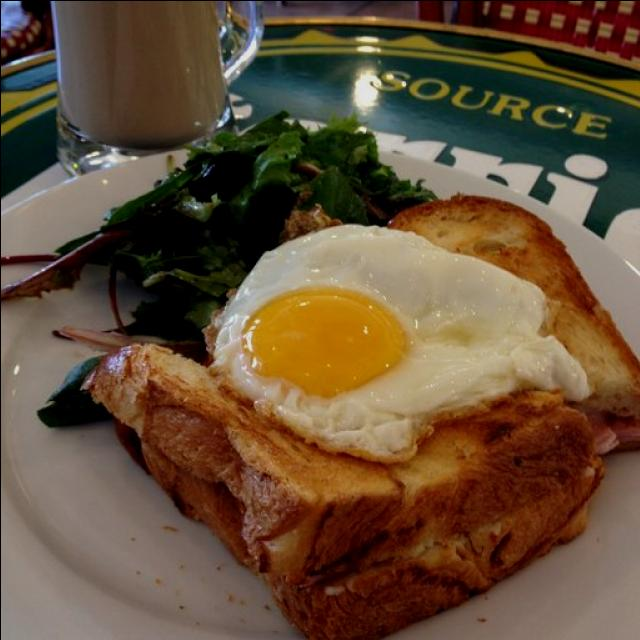telur ceplok: (202, 224, 591, 466)
